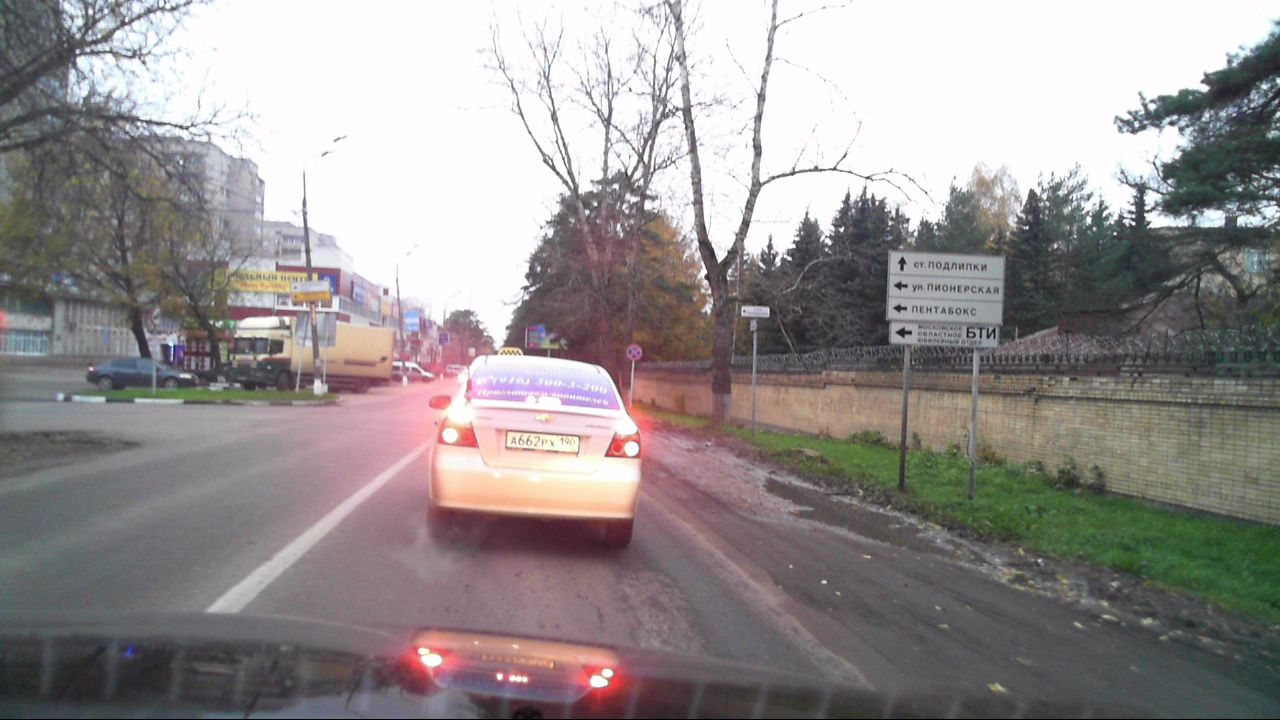No Parking: (626, 344, 643, 361)
